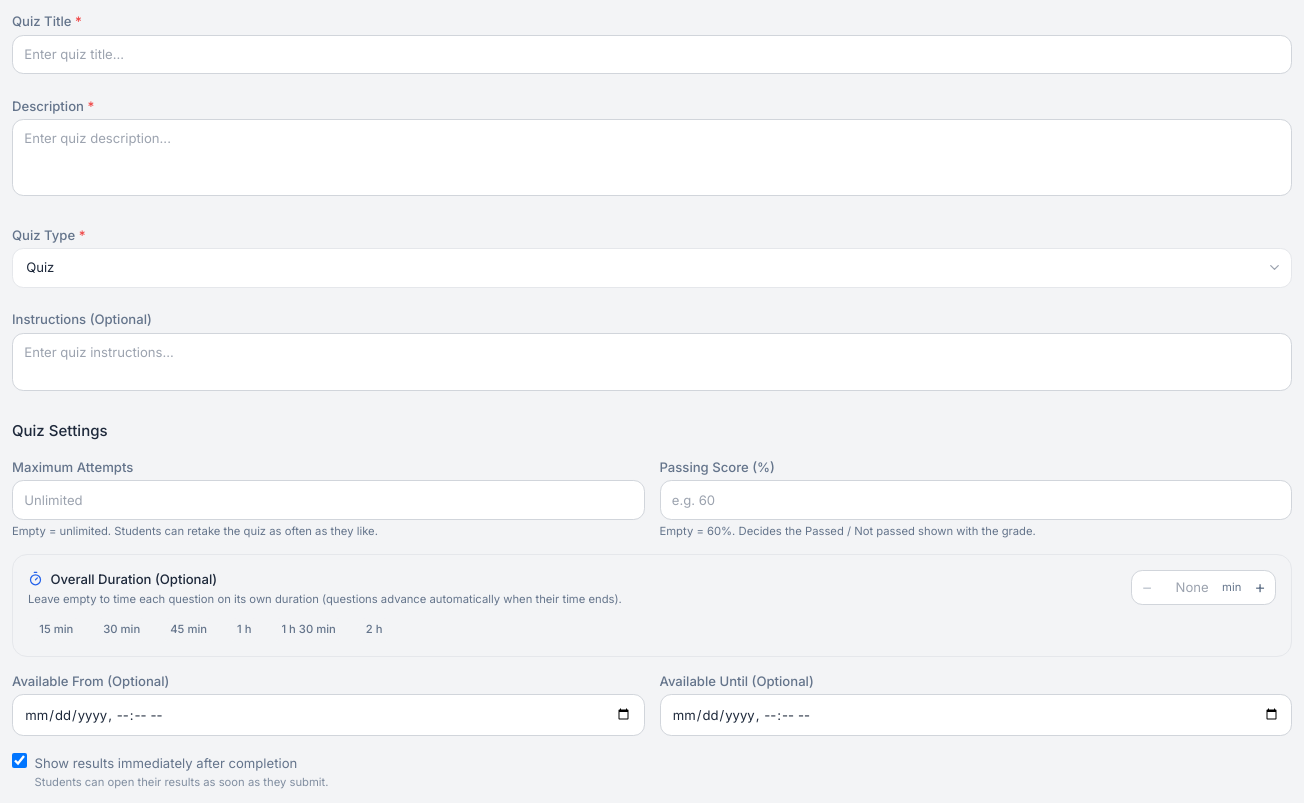
QuizForm › sets the overall duration from a preset, explains it, and clears it
Click the button "45 min" at coordinates (189, 630), box x1=159 y1=618 x2=218 y2=641
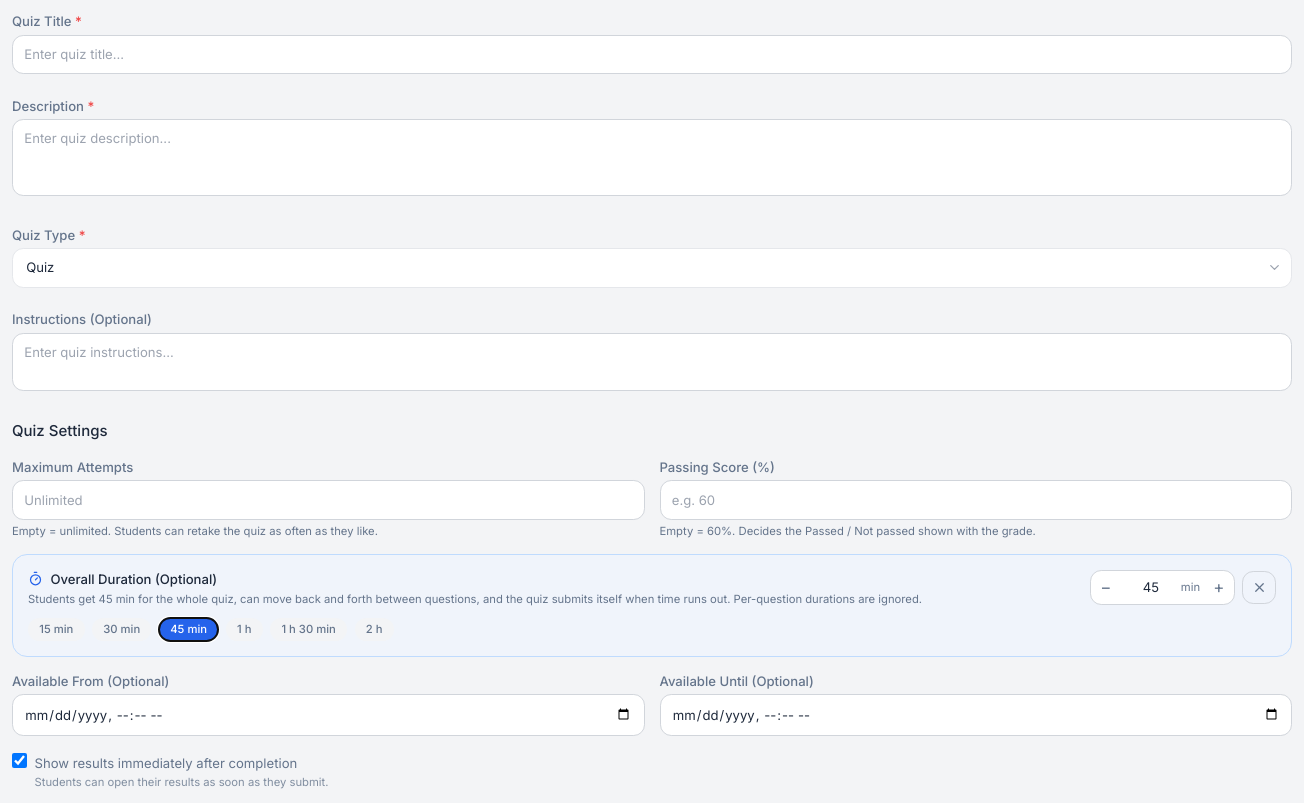
expect the number field labelled "Overall Duration (Optional)" holds "45": met, box x1=1121 y1=570 x2=1181 y2=604
expect the text "Students get 45 min for the whole quiz" is shown: met, box x1=28 y1=592 x2=922 y2=606
Click the button named "Remove overall duration" at coordinates (1259, 587), box x1=1242 y1=570 x2=1276 y2=604
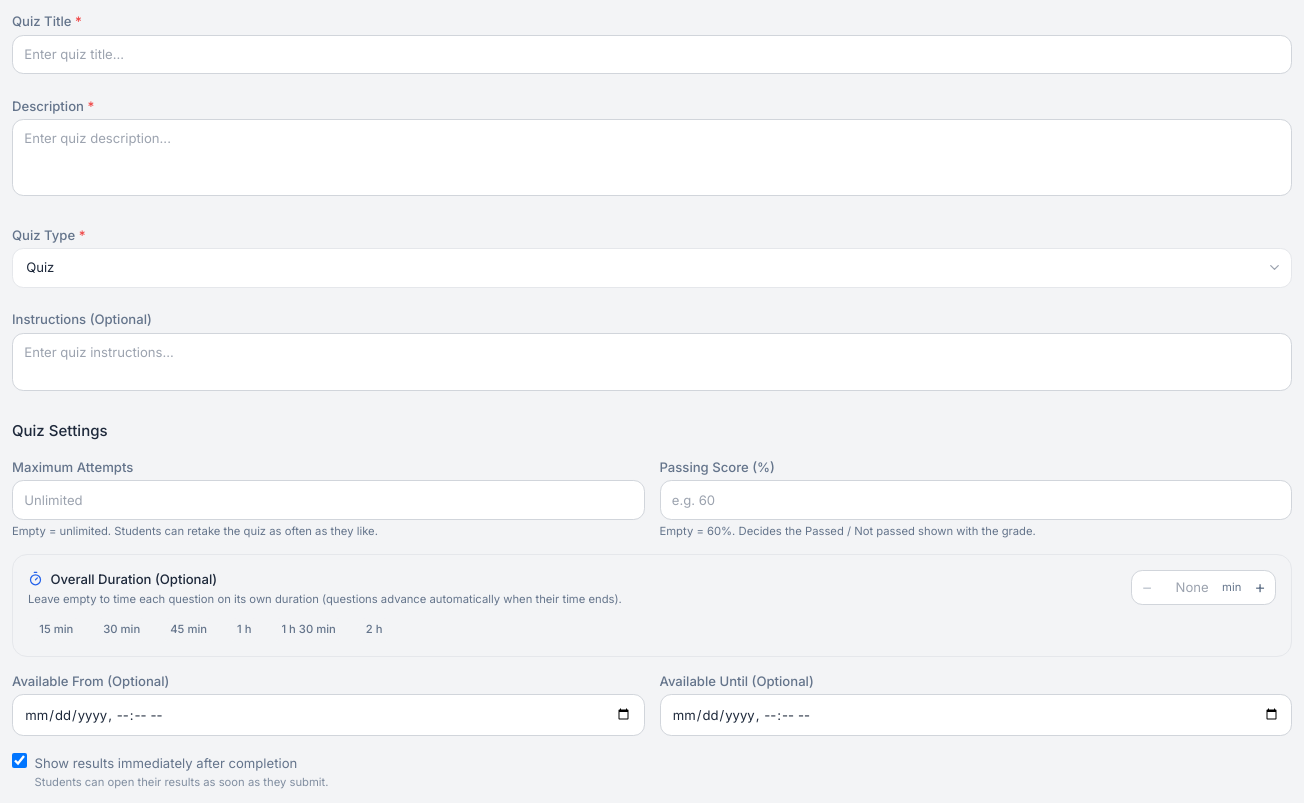
expect the number field labelled "Overall Duration (Optional)" is not empty: met, box x1=1162 y1=570 x2=1222 y2=604
expect the text "time each question on its own duration" is shown: met, box x1=28 y1=592 x2=622 y2=606
